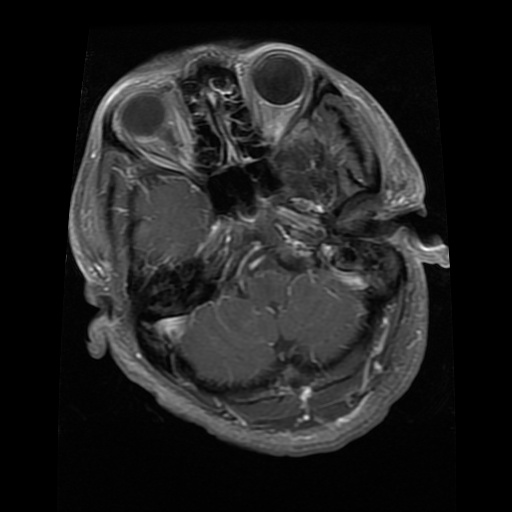glioma: (271, 140, 338, 203)
